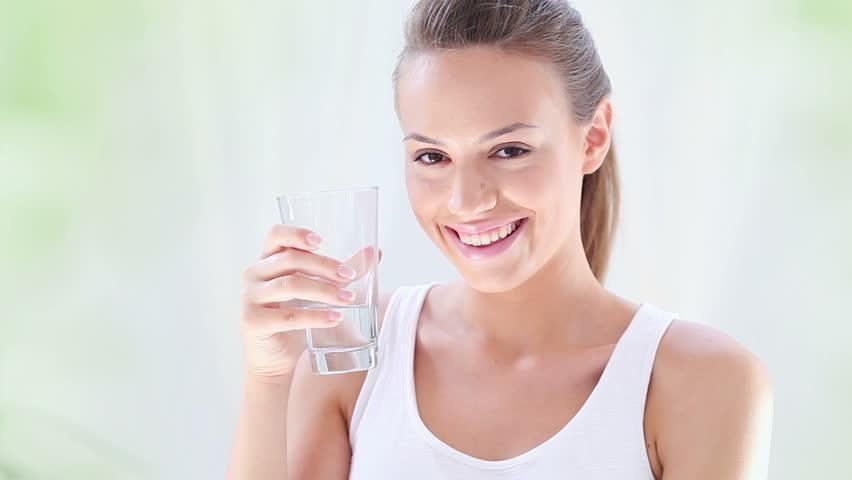glass-normal: (273, 182, 383, 374)
